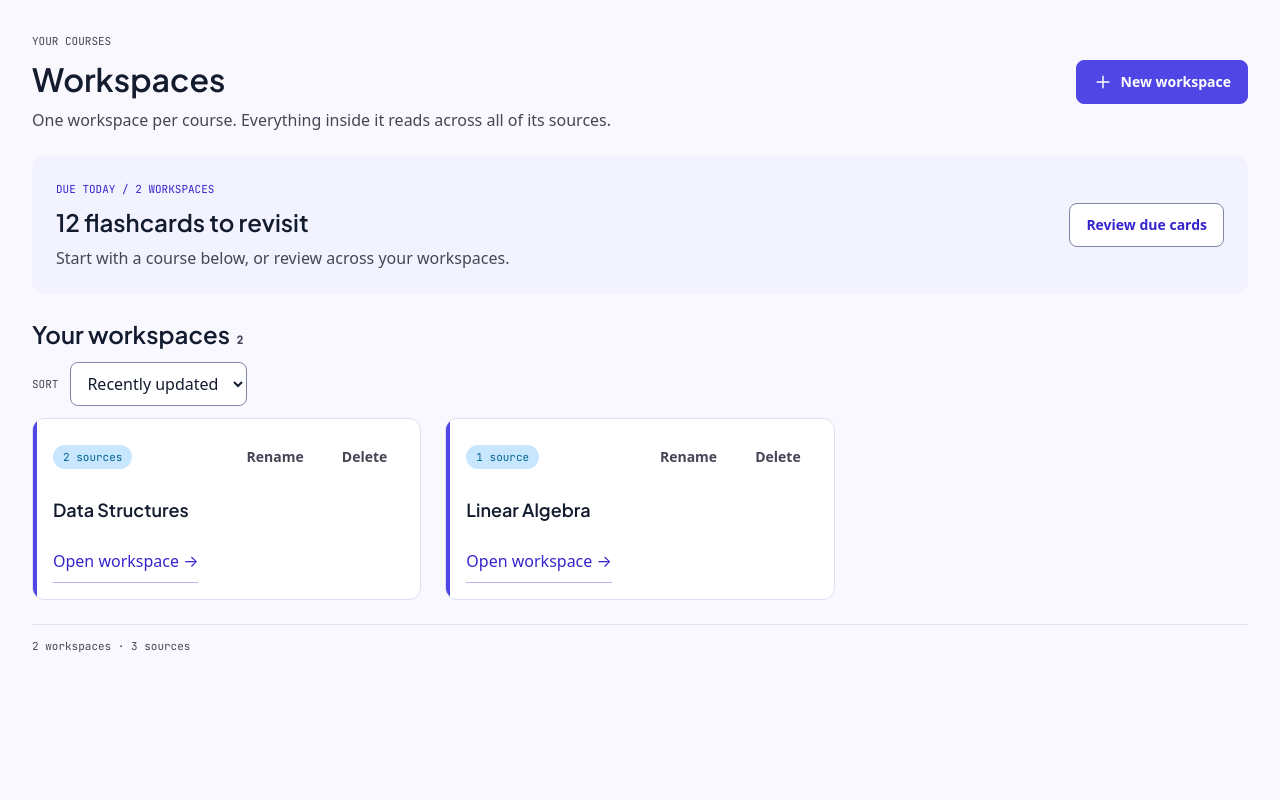
Test case: the workspace list › asks before deleting, and says what else goes
Click the button "Delete" in the row of "2 sources" at (365, 457), box [325,435,404,479]
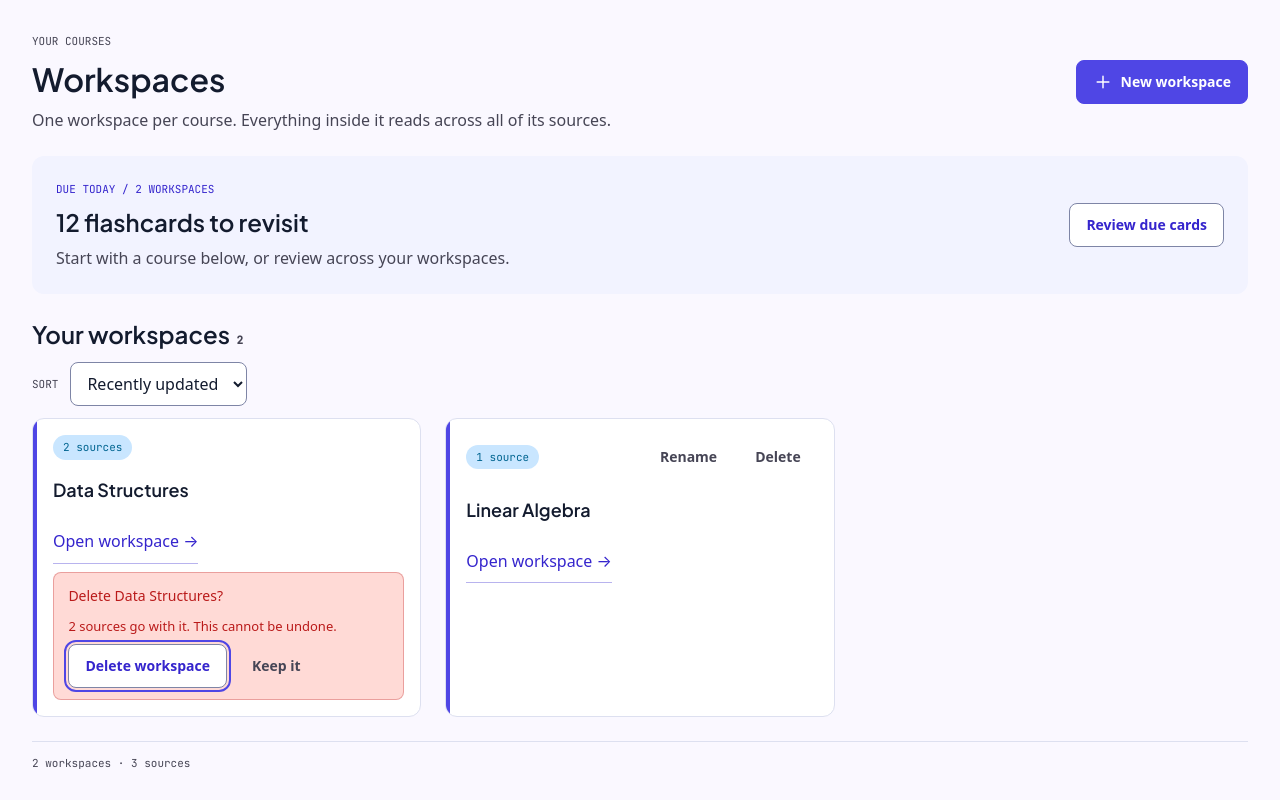
Expected: the text "Delete Data Structures?" is shown, [68,584,223,608]
Expected: the text "2 sources go with it. This cannot be undone." is shown, [68,616,337,636]
Click the button "Delete workspace" at (148, 666), box [68,644,227,688]
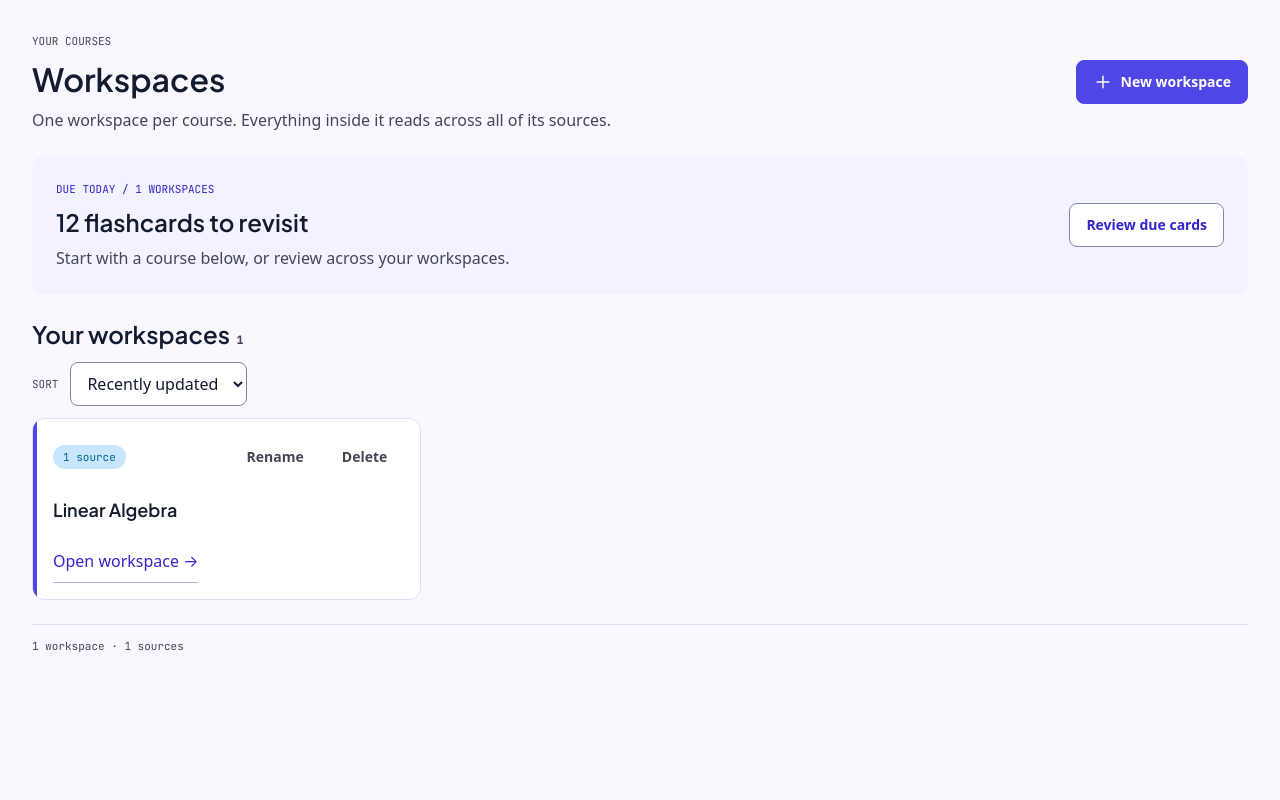
Expected: the link "Linear Algebra" is shown, [53,498,177,520]
Expected: the link "Data Structures" is gone
